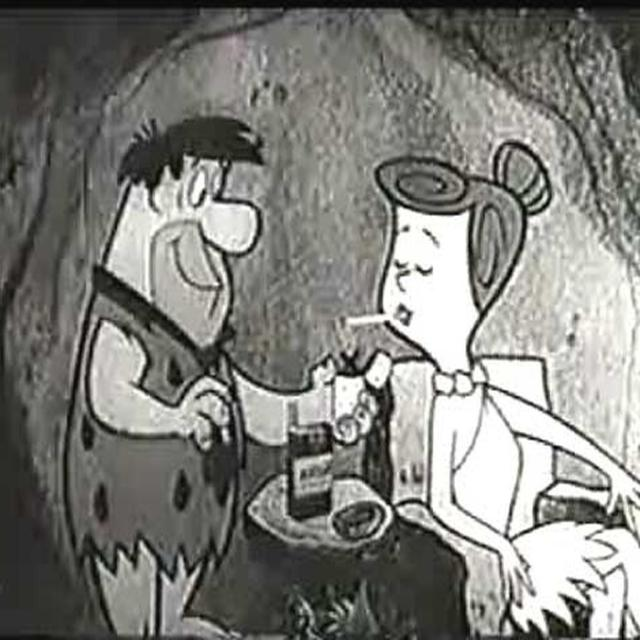smoking: (330, 215, 476, 383)
